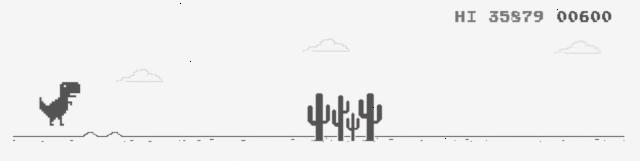cactus: (359, 94, 382, 141), (308, 94, 329, 141), (332, 96, 349, 141), (347, 113, 359, 141)
dinosaur: (40, 83, 80, 125)
